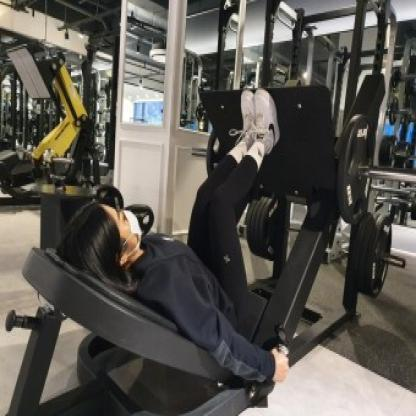leg press: (4, 34, 408, 416)
